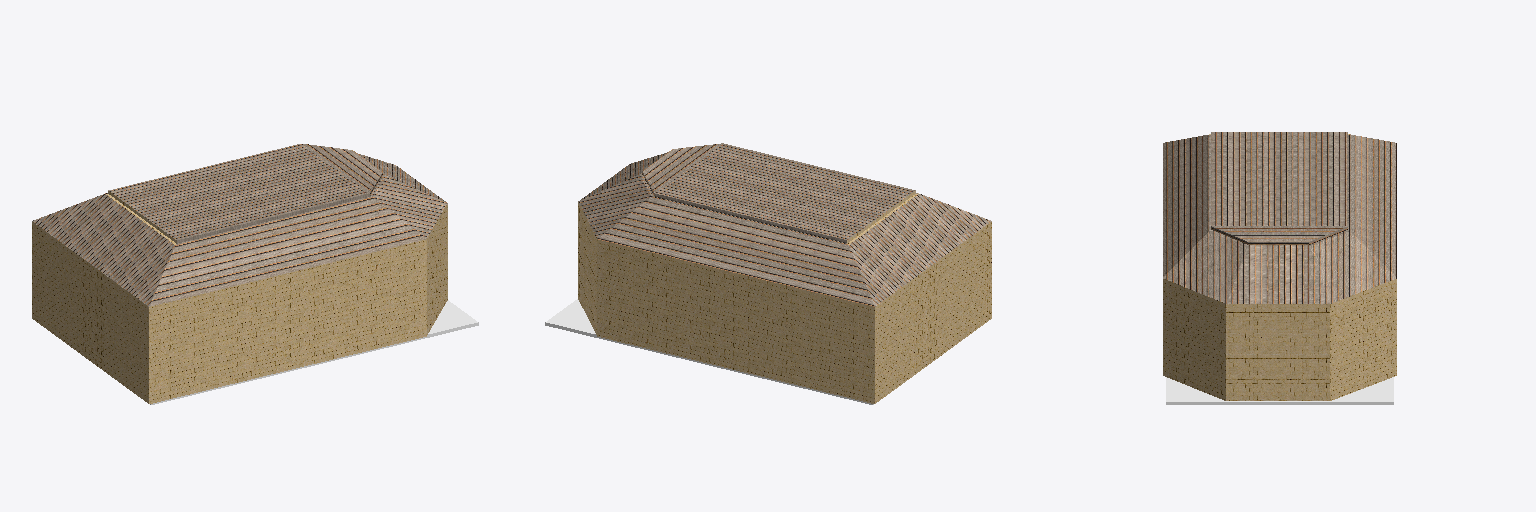
3 renders of one model, left to right at view 1: azimuth 30°, elevation 25°; view 2: azimuth 150°, elevation 25°; view 3: azimuth 270°, elevation 25°, orthographic.
Visible parts, largest first — view 1: Object.2, Object.1, Object.3; view 2: Object.2, Object.1, Object.3; view 3: Object.1, Object.2, Object.3.
Part boxes in pixels (bbox=[...]): Object.2: bbox=[32, 203, 447, 403]; Object.1: bbox=[32, 144, 446, 306]; Object.3: bbox=[150, 300, 478, 404]; Object.2: bbox=[578, 202, 991, 403]; Object.1: bbox=[578, 143, 991, 306]; Object.3: bbox=[545, 299, 873, 404]; Object.1: bbox=[1163, 132, 1396, 303]; Object.2: bbox=[1163, 279, 1396, 400]; Object.3: bbox=[1166, 377, 1393, 404].
Bounding box in the file's own units: 106 × 41.83 × 65.19.
7 materials, 3 textured.